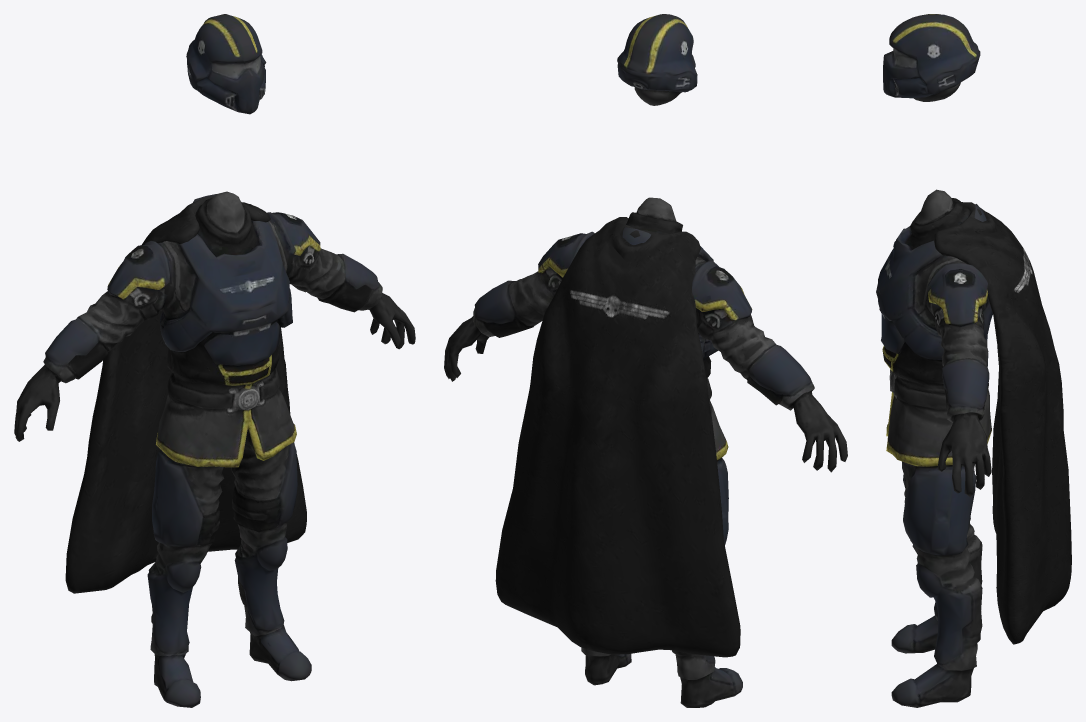
The model's file is helldivers-transformed.glb.
3 views of the same model, side by side, from view 1: azimuth 30°, elevation 25°; view 2: azimuth 150°, elevation 25°; view 3: azimuth 270°, elevation 25° (orthographic).
Parts seen in each view (by area): view 1: Object_5; view 2: Object_5; view 3: Object_5.
Boxes of the visible parts, x1,y1,x2,y2 form: Object_5: (14, 14, 415, 707); Object_5: (444, 14, 847, 707); Object_5: (876, 14, 1071, 707).
Size of the model in its own units: 147 by 232 by 62.69.
Materials: 1 (1 with a texture image).
